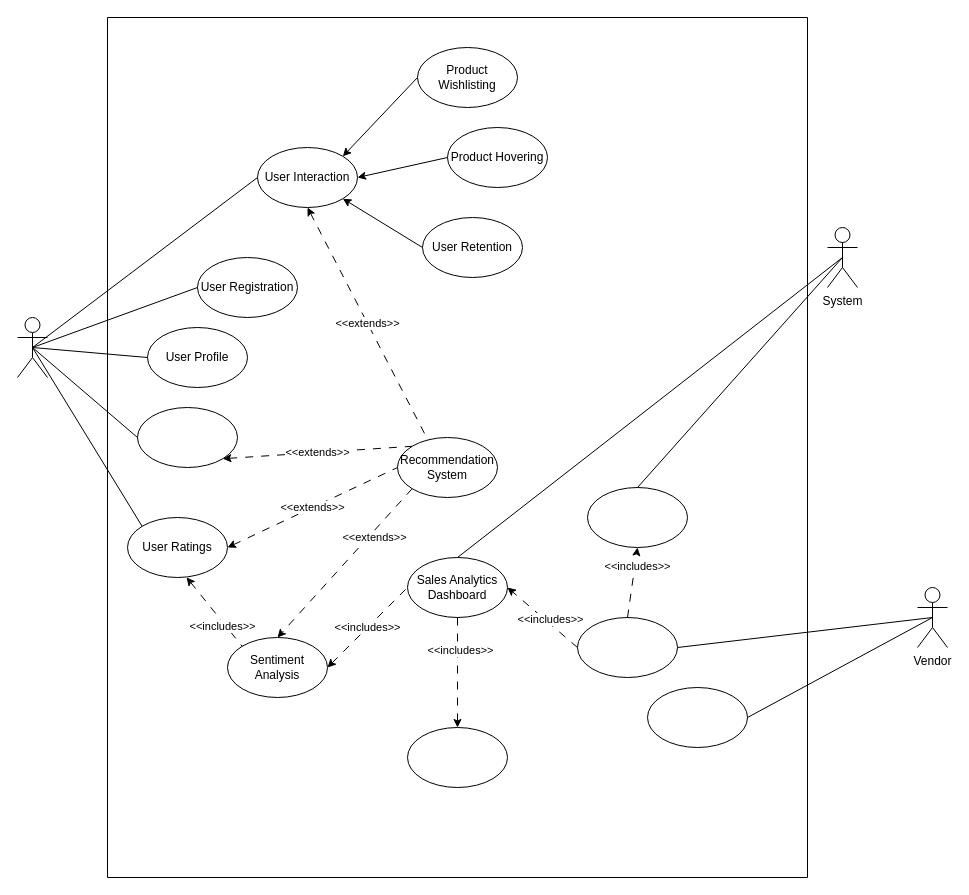
Some shapes in this 969 by 895 pixel diagram are drawn without their labels. The box of each missing label's shape, as (x1, y1, x2, y2) in pixels:
Inventory Management: (586, 486, 688, 548)
Predictive Analytics: (406, 726, 508, 788)
Purchase Product: (136, 406, 238, 468)
User: (16, 316, 48, 378)
Vendor Management: (576, 616, 678, 678)
Vendor Registration: (646, 686, 748, 748)
